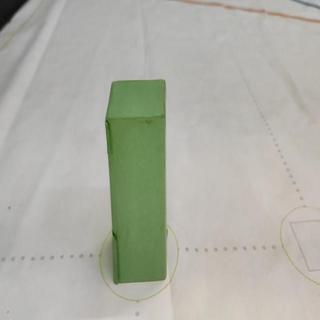greenbox: (104, 77, 170, 285)
